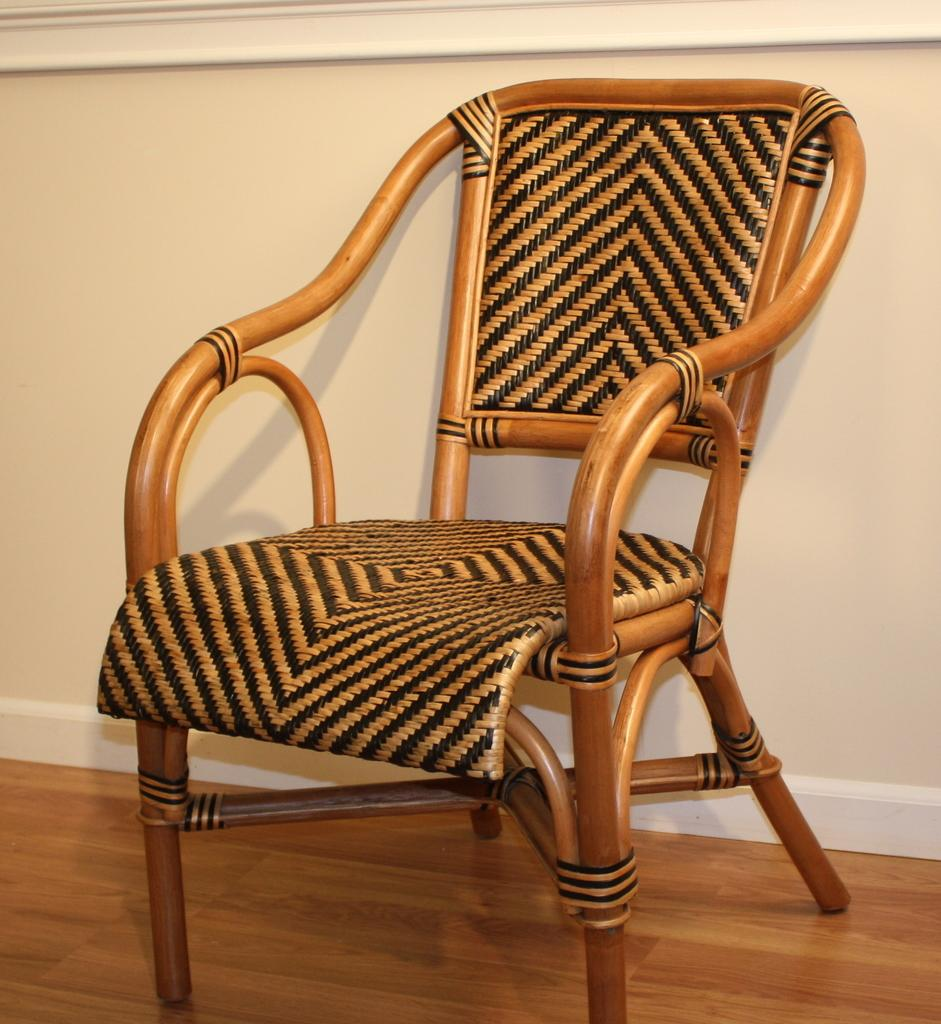Chair: (84, 65, 875, 1023)
